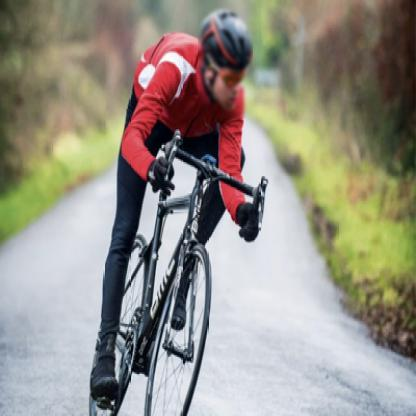Helmet: (197, 7, 261, 110)
